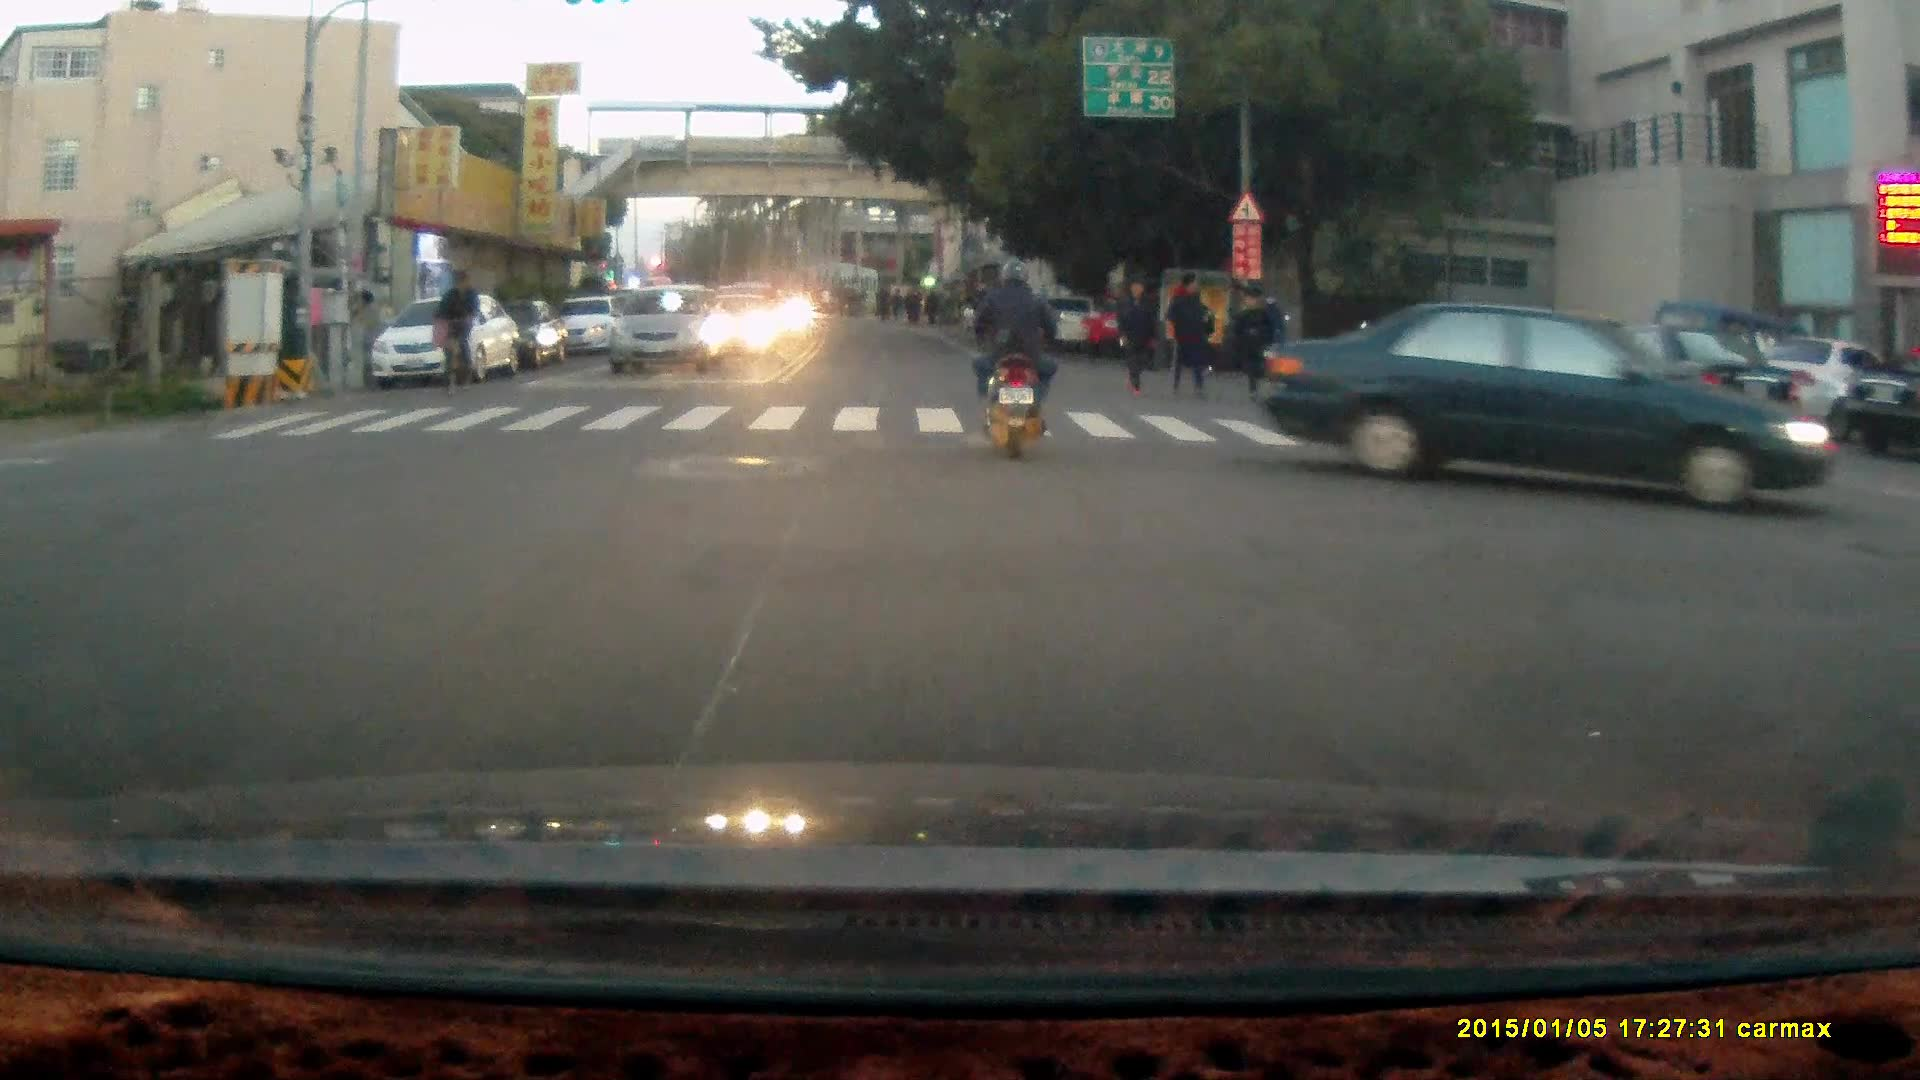pedestrian: (1169, 268, 1209, 400), (1113, 277, 1157, 400), (1231, 284, 1270, 401)
rider: (964, 256, 1059, 463), (430, 268, 476, 395)
vehicle: (1255, 295, 1850, 513), (1733, 337, 1908, 441), (367, 293, 528, 392), (602, 288, 732, 383), (1842, 359, 1920, 466), (1091, 297, 1207, 366)
